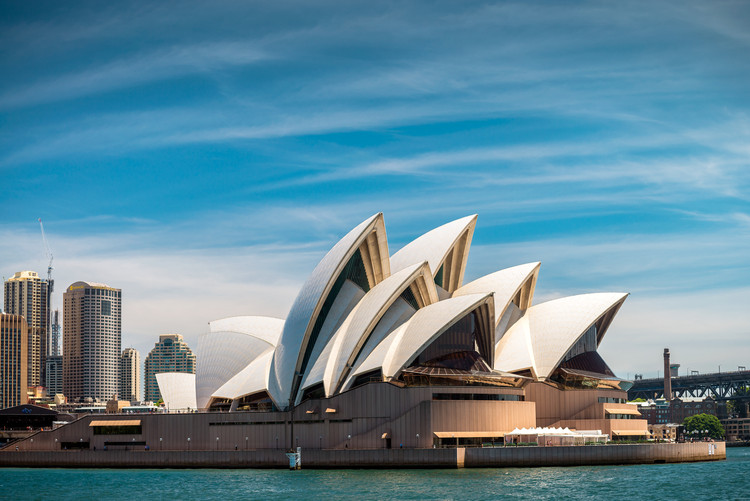opera house: (126, 190, 700, 458)
